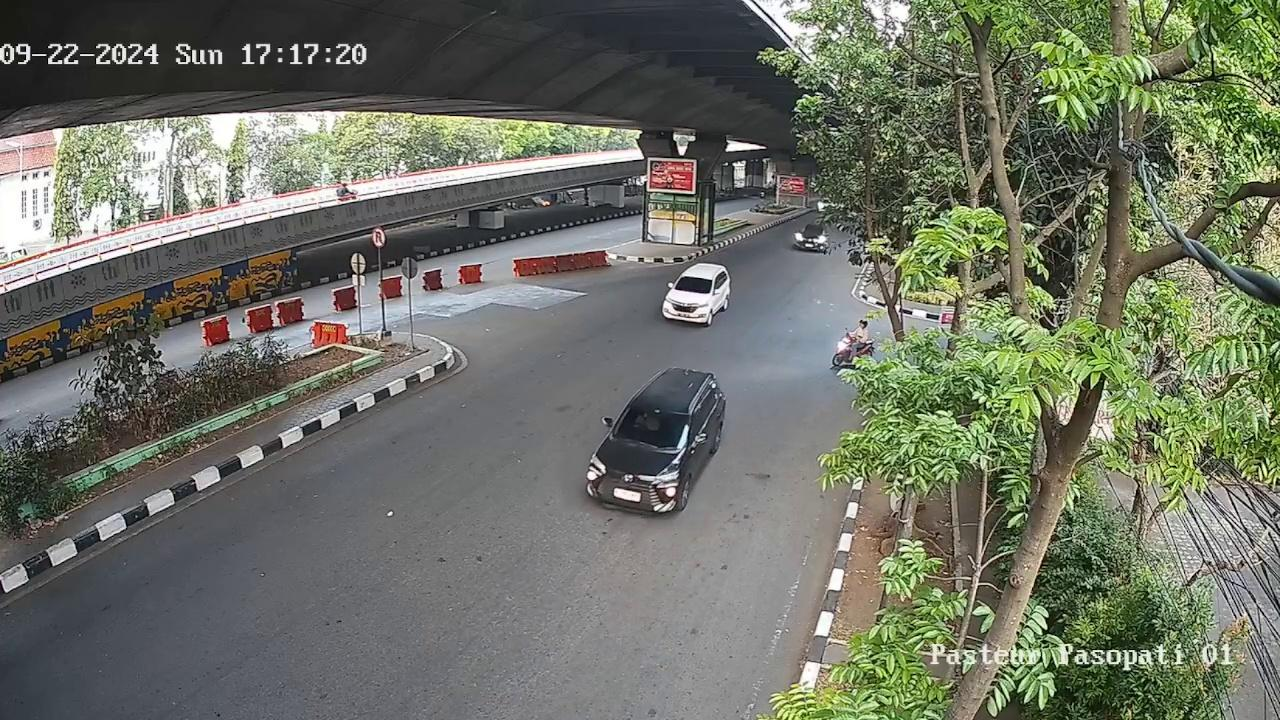tidak-pakai: (633, 410, 662, 440)
windshield: (611, 408, 692, 448), (677, 277, 715, 291)
